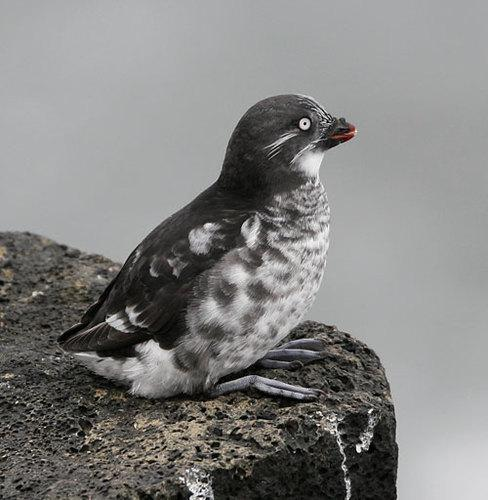006.Least_Auklet: (52, 95, 357, 406)
